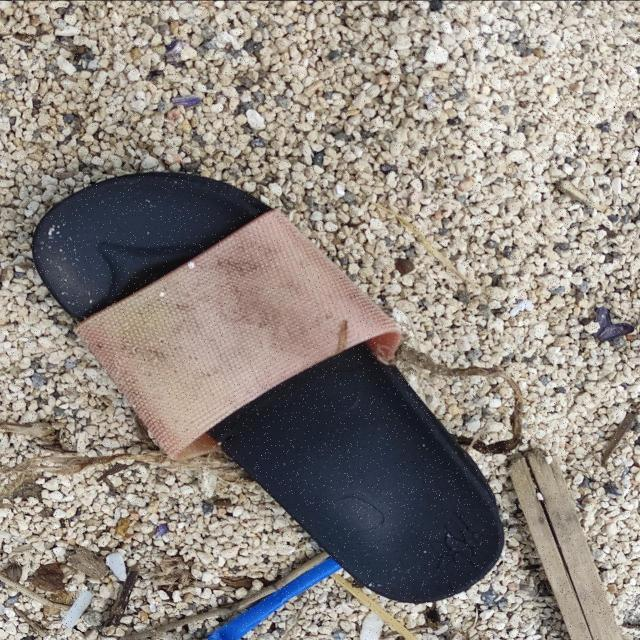rubber_waste: (37, 169, 509, 607)
